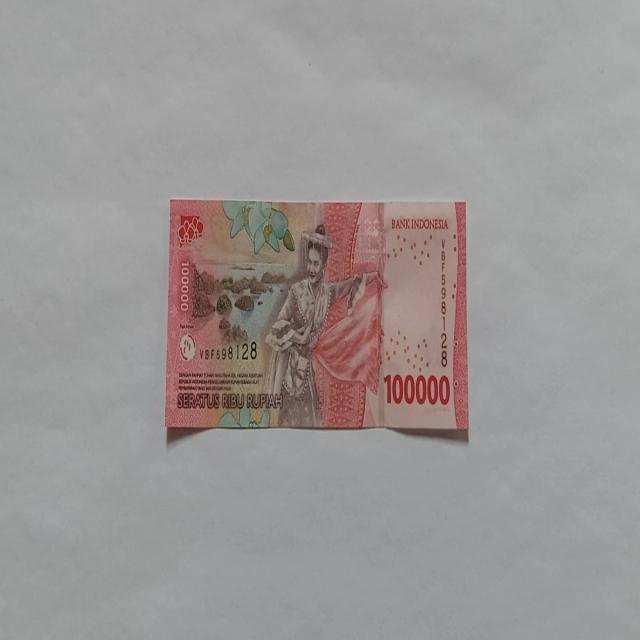seratus ribu rupiah: (164, 198, 468, 436), (261, 224, 376, 428)
